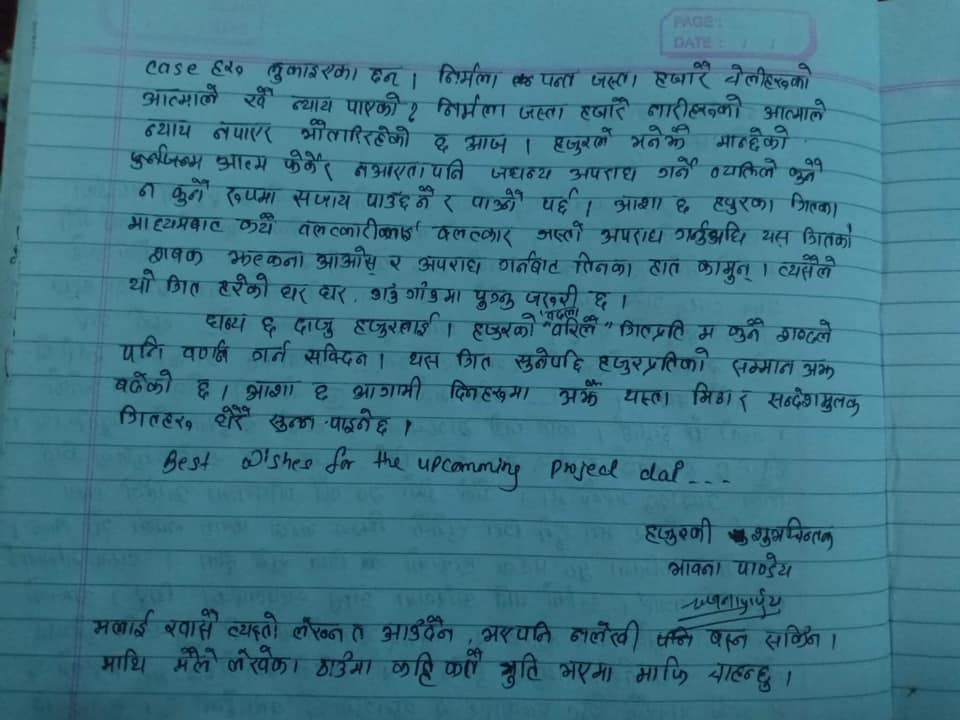text: (415, 452, 522, 492), (297, 117, 414, 151), (295, 217, 423, 245), (643, 91, 746, 124), (596, 346, 711, 375), (765, 385, 863, 418), (262, 58, 363, 88), (750, 515, 838, 549), (721, 61, 817, 92), (568, 618, 641, 655), (352, 309, 442, 339), (124, 211, 225, 236), (226, 644, 301, 677), (116, 402, 194, 433), (430, 93, 510, 123), (704, 660, 774, 694), (379, 614, 455, 645), (137, 83, 224, 110), (648, 59, 717, 93), (447, 377, 534, 403), (238, 446, 316, 475), (469, 311, 539, 343), (428, 222, 514, 248), (672, 219, 749, 248), (512, 345, 586, 375), (627, 121, 694, 154), (435, 61, 506, 92), (713, 125, 794, 152), (548, 125, 616, 157), (314, 243, 379, 276), (280, 146, 336, 184), (641, 517, 714, 546), (89, 608, 155, 640), (289, 181, 354, 213), (759, 96, 830, 125), (478, 620, 554, 647), (388, 650, 439, 690), (163, 607, 221, 642), (496, 649, 542, 693), (351, 375, 428, 401), (208, 118, 277, 147), (708, 156, 782, 183), (547, 455, 621, 482), (732, 551, 796, 582), (634, 654, 690, 689), (343, 89, 403, 121), (226, 247, 306, 271), (328, 407, 392, 437), (762, 622, 823, 652), (347, 159, 430, 181), (222, 180, 279, 212), (497, 249, 561, 277), (572, 250, 633, 279), (777, 253, 838, 282), (291, 614, 346, 646), (303, 342, 368, 369), (568, 163, 644, 186), (775, 317, 833, 347), (313, 650, 373, 679), (159, 445, 213, 477), (226, 610, 280, 642), (415, 253, 486, 277), (111, 368, 174, 395), (710, 193, 778, 218), (617, 317, 685, 342), (729, 355, 797, 380), (695, 257, 753, 286), (212, 150, 272, 178), (117, 332, 166, 366), (140, 54, 201, 81), (241, 376, 302, 403), (556, 659, 617, 686), (799, 221, 855, 250), (470, 187, 527, 215), (577, 93, 632, 122), (787, 190, 840, 220), (140, 115, 196, 143), (597, 226, 665, 249), (555, 377, 604, 408), (406, 280, 464, 306), (663, 556, 725, 580), (216, 273, 271, 300), (483, 163, 557, 183), (100, 646, 149, 676), (179, 338, 232, 365), (549, 314, 600, 342), (171, 646, 220, 675), (691, 378, 735, 410), (169, 176, 210, 210), (444, 647, 485, 681), (461, 130, 512, 157), (637, 457, 688, 484), (524, 284, 579, 309), (147, 244, 204, 268), (588, 68, 640, 94), (534, 220, 586, 245), (537, 187, 580, 217), (654, 154, 701, 181), (611, 192, 666, 215), (288, 93, 338, 118), (516, 101, 570, 124), (470, 286, 516, 313), (705, 626, 749, 654), (620, 386, 672, 409), (211, 403, 252, 432), (292, 314, 335, 341), (726, 315, 766, 344), (430, 154, 466, 186), (163, 271, 201, 301), (363, 189, 412, 212), (203, 309, 248, 334), (266, 412, 317, 434), (235, 211, 278, 237), (366, 63, 407, 90), (788, 157, 823, 188), (206, 58, 248, 83), (324, 445, 357, 476), (539, 68, 579, 93), (453, 347, 493, 372), (250, 340, 292, 363), (405, 348, 445, 371), (798, 357, 836, 381), (125, 268, 157, 296), (315, 281, 349, 307), (241, 85, 273, 112), (371, 449, 405, 474), (644, 255, 682, 277), (758, 226, 794, 249), (278, 282, 310, 307), (368, 281, 399, 306), (132, 178, 158, 203), (589, 286, 613, 313), (428, 127, 451, 155), (414, 184, 437, 212), (258, 311, 279, 338), (693, 321, 717, 343), (311, 379, 332, 403), (736, 389, 755, 415), (441, 192, 462, 215), (347, 621, 368, 643), (195, 377, 214, 401), (673, 196, 692, 217), (386, 252, 403, 273)
